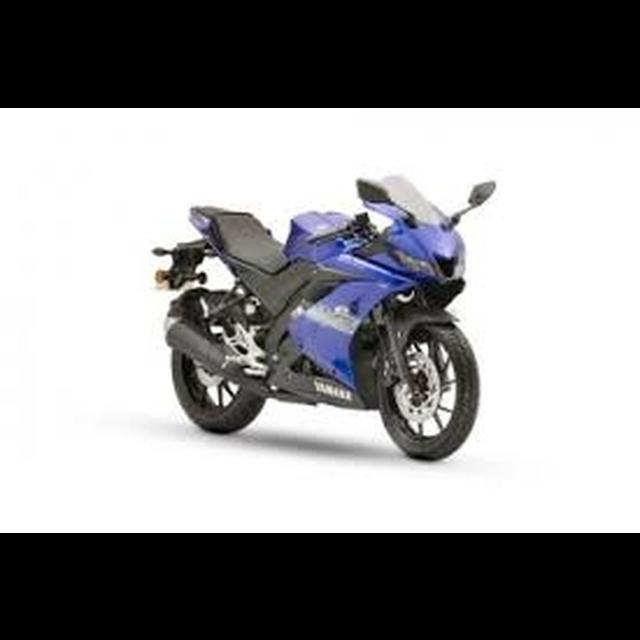motorcycle: (143, 167, 503, 470)
